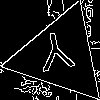Y: (35, 30, 78, 82)
